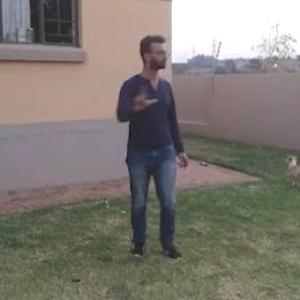land_hand: (128, 79, 160, 118)
